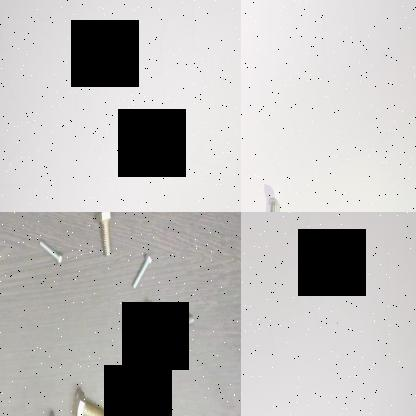Bolts: (126, 292, 160, 357), (66, 383, 112, 416), (169, 304, 197, 342), (94, 212, 116, 258), (38, 234, 66, 268), (132, 251, 152, 295), (259, 190, 282, 212)
